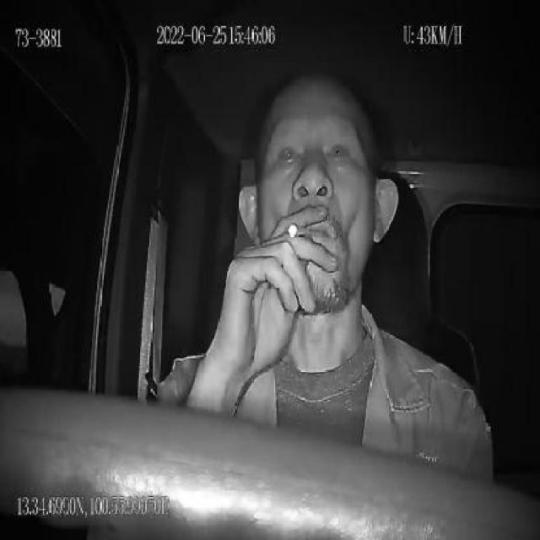smoking: (287, 221, 313, 240)
